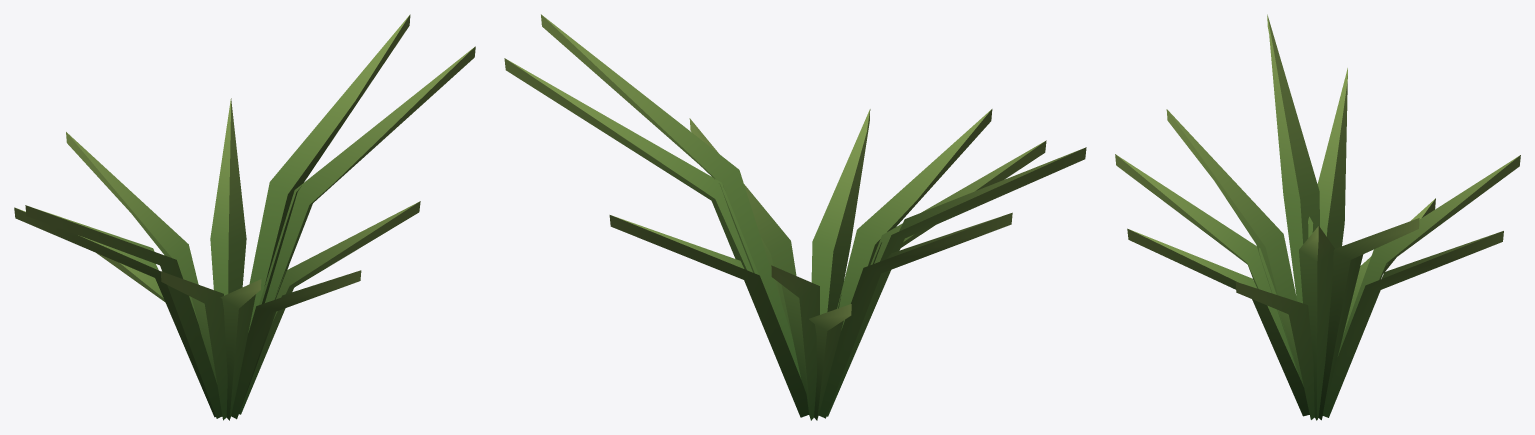
The model's file is grass_tussock.glb.
The picture shows the model from 3 angles, left to right: view 1: azimuth 30°, elevation 25°; view 2: azimuth 150°, elevation 25°; view 3: azimuth 270°, elevation 25°; orthographic projection. The views are drawn at different scales.
Visible parts, largest first — view 1: grass_tussock; view 2: grass_tussock; view 3: grass_tussock.
Boxes of the visible parts, <box> form: grass_tussock: <box>14,14,475,420</box>; grass_tussock: <box>504,14,1086,420</box>; grass_tussock: <box>1115,14,1520,420</box>.
Size of the model in its own units: 1.19 by 0.7362 by 0.8635.
